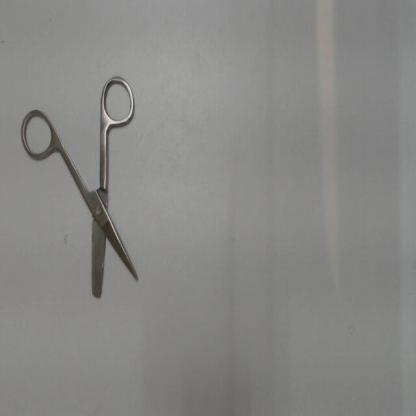Dressing Scissors: (10, 67, 145, 303)
